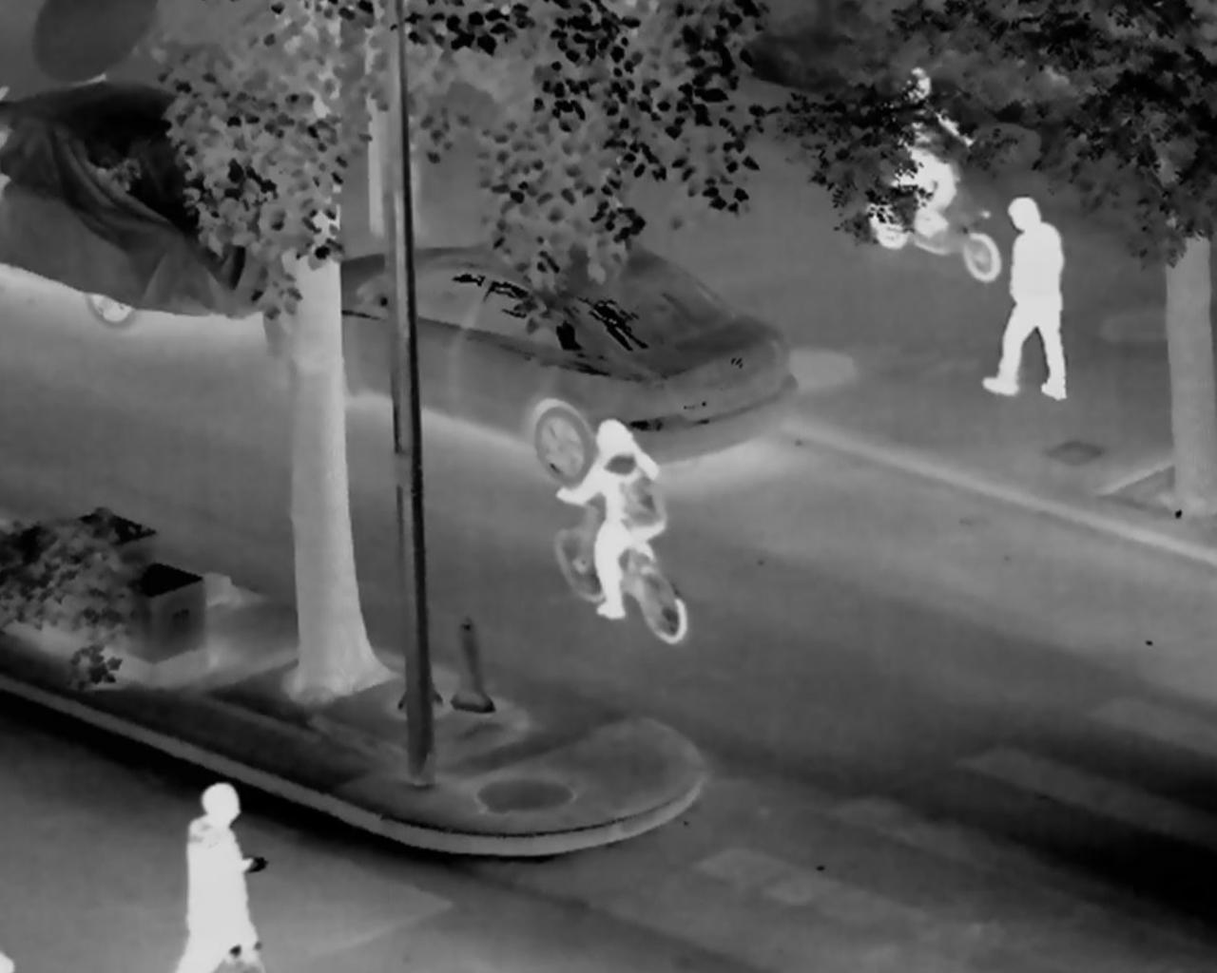person: (559, 420, 670, 617), (977, 196, 1071, 401), (879, 67, 969, 248), (184, 782, 268, 973)
